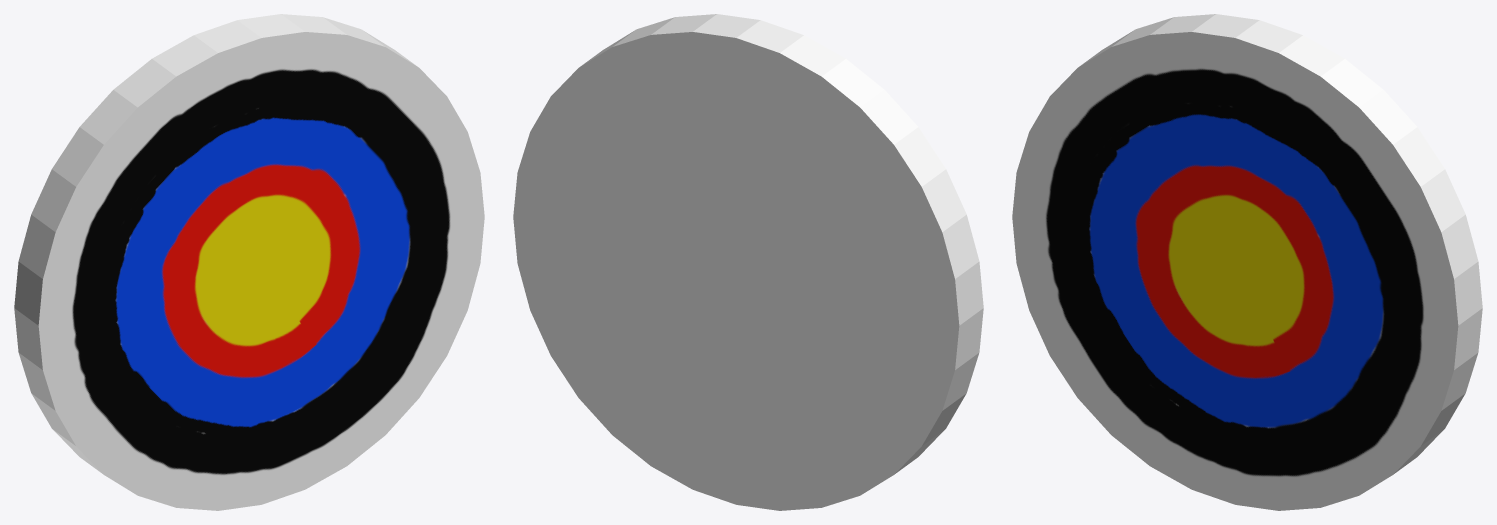
File: diana.fbx
3 renders of one model, left to right at view 1: azimuth 30°, elevation 25°; view 2: azimuth 150°, elevation 25°; view 3: azimuth 330°, elevation 25°, orthographic.
Visible parts, largest first — view 1: Cylinder; view 2: Cylinder; view 3: Cylinder.
Part boxes in pixels (x1,y1,x2,y2): Cylinder: (14, 14, 484, 510); Cylinder: (513, 14, 983, 510); Cylinder: (1012, 14, 1482, 510).
Bounding box in the file's own units: 200 × 200 × 18.97.
Materials: 1 (1 with a texture image).
